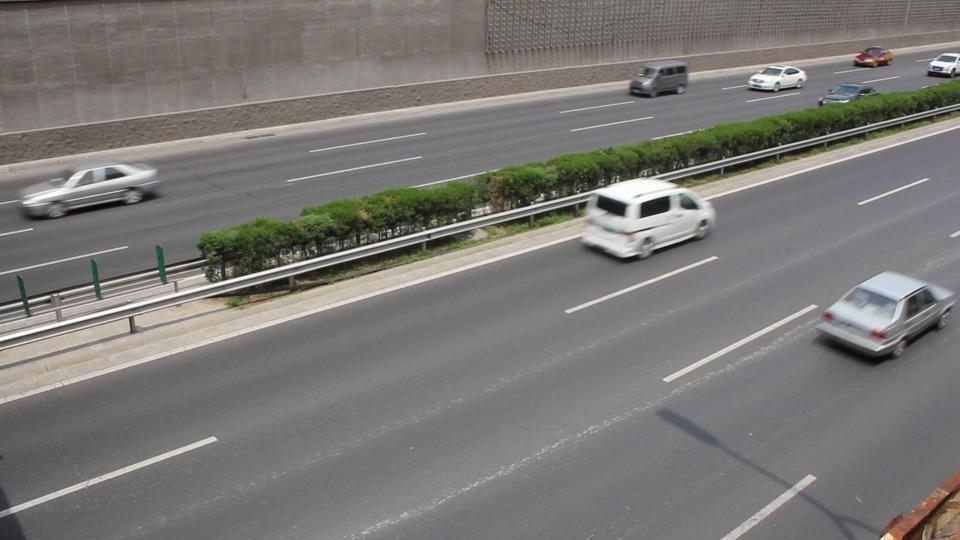car: (815, 270, 958, 359), (580, 178, 717, 261), (18, 163, 162, 220), (628, 60, 689, 98), (748, 64, 807, 93), (814, 84, 876, 106), (853, 47, 895, 68), (927, 52, 960, 77)
